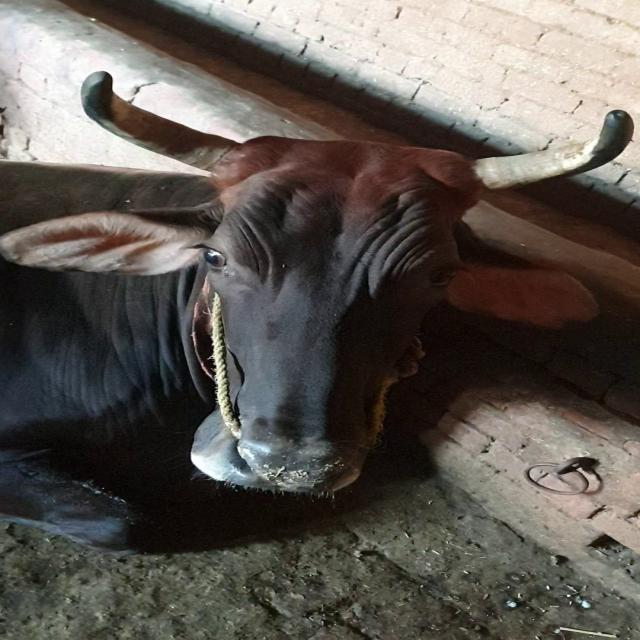cowFace: (124, 124, 480, 492)
